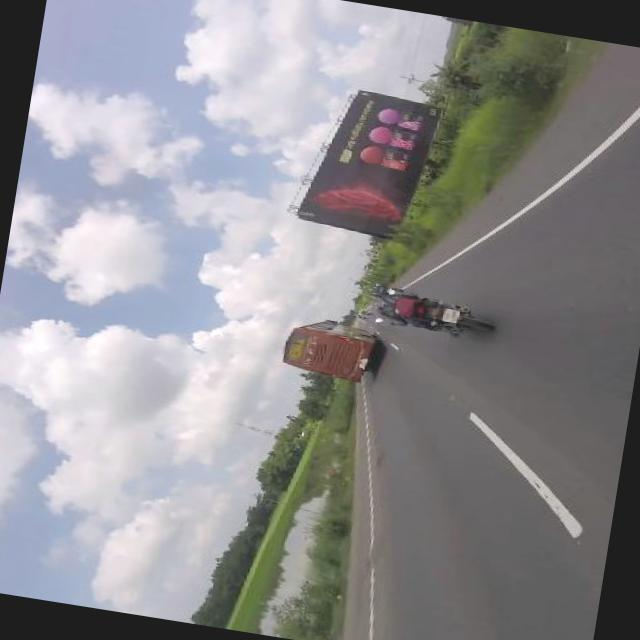bus: (276, 314, 382, 384)
motorcycle: (364, 286, 500, 344), (365, 282, 415, 305), (357, 310, 370, 316), (354, 313, 366, 319)
